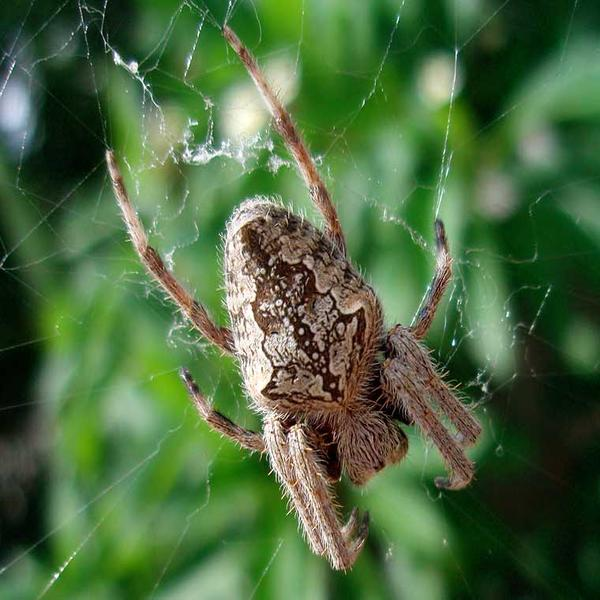Garden_Orb_Weaver_Spider: (104, 25, 482, 572)
